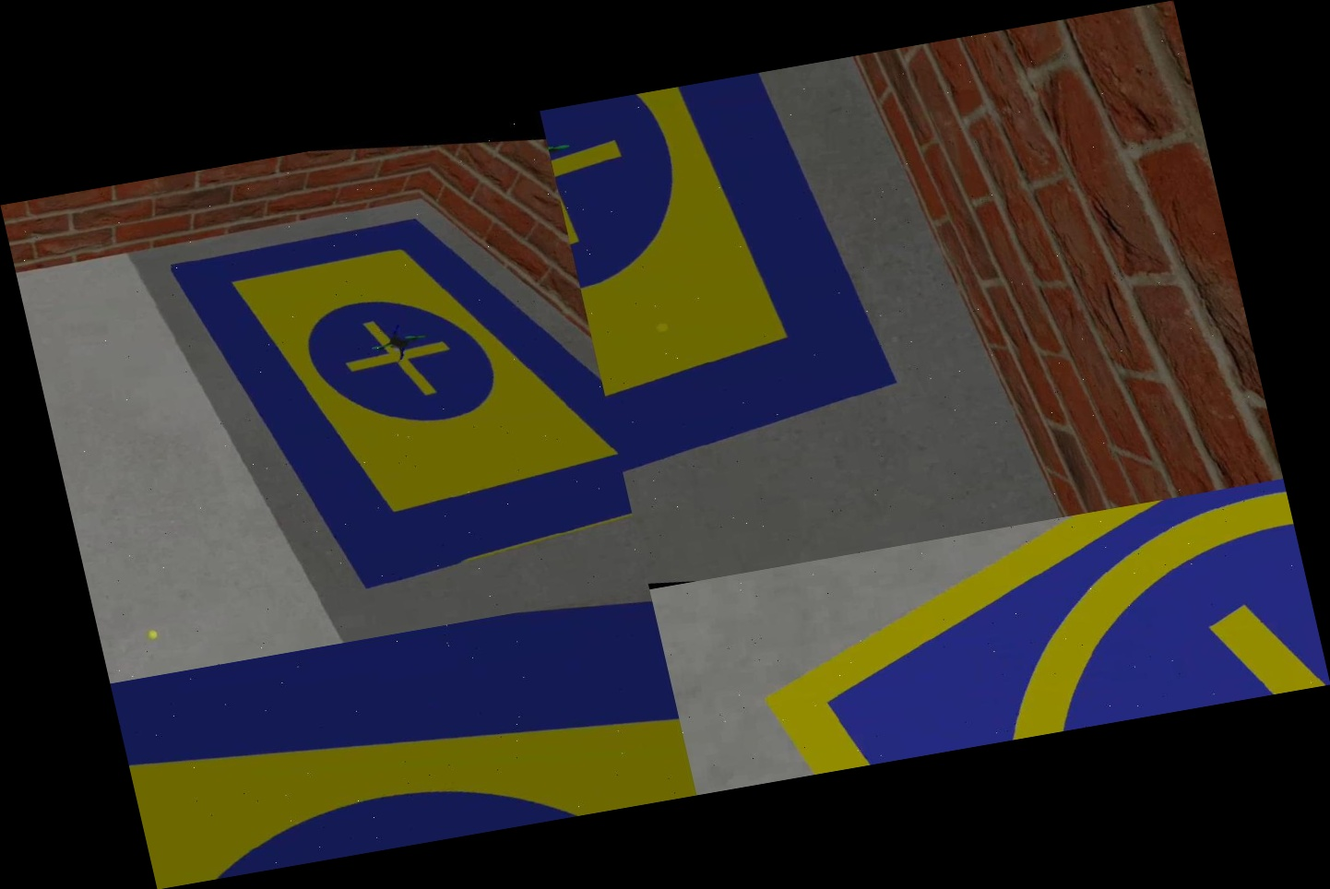large_base: (108, 162, 647, 659), (540, 51, 983, 556), (111, 589, 696, 888)
small_base: (683, 479, 1330, 788)
